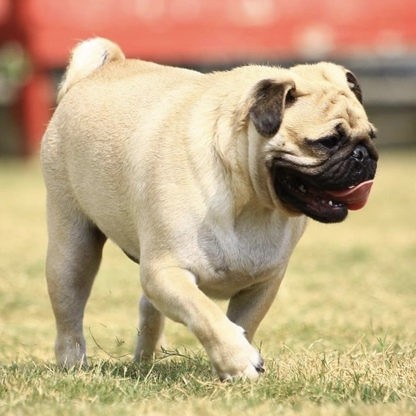Pug: (33, 30, 385, 389)
